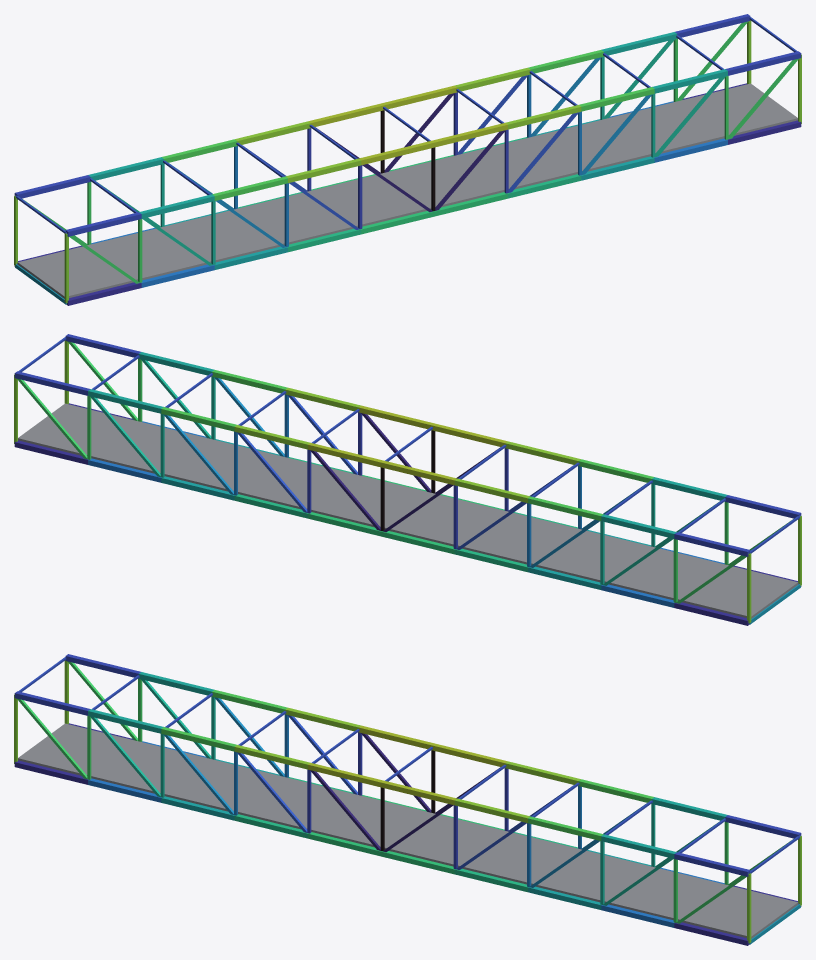
The model's file is 25_2.25_10_HEA160.glb.
The picture shows the model from 3 angles, top to bottom: view 1: azimuth 30°, elevation 25°; view 2: azimuth 150°, elevation 25°; view 3: azimuth 330°, elevation 25°; orthographic projection.
Size of the model in its own units: 25.09 by 2.41 by 3.16.
